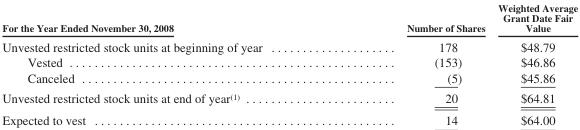table: (1, 1, 577, 127)
table column: (1, 1, 333, 127), (333, 1, 491, 127), (491, 1, 577, 127)
table column header: (1, 1, 577, 36)
table row: (1, 1, 577, 36), (1, 87, 577, 108), (1, 108, 577, 127), (1, 36, 577, 54), (1, 69, 577, 87), (1, 54, 577, 69)
